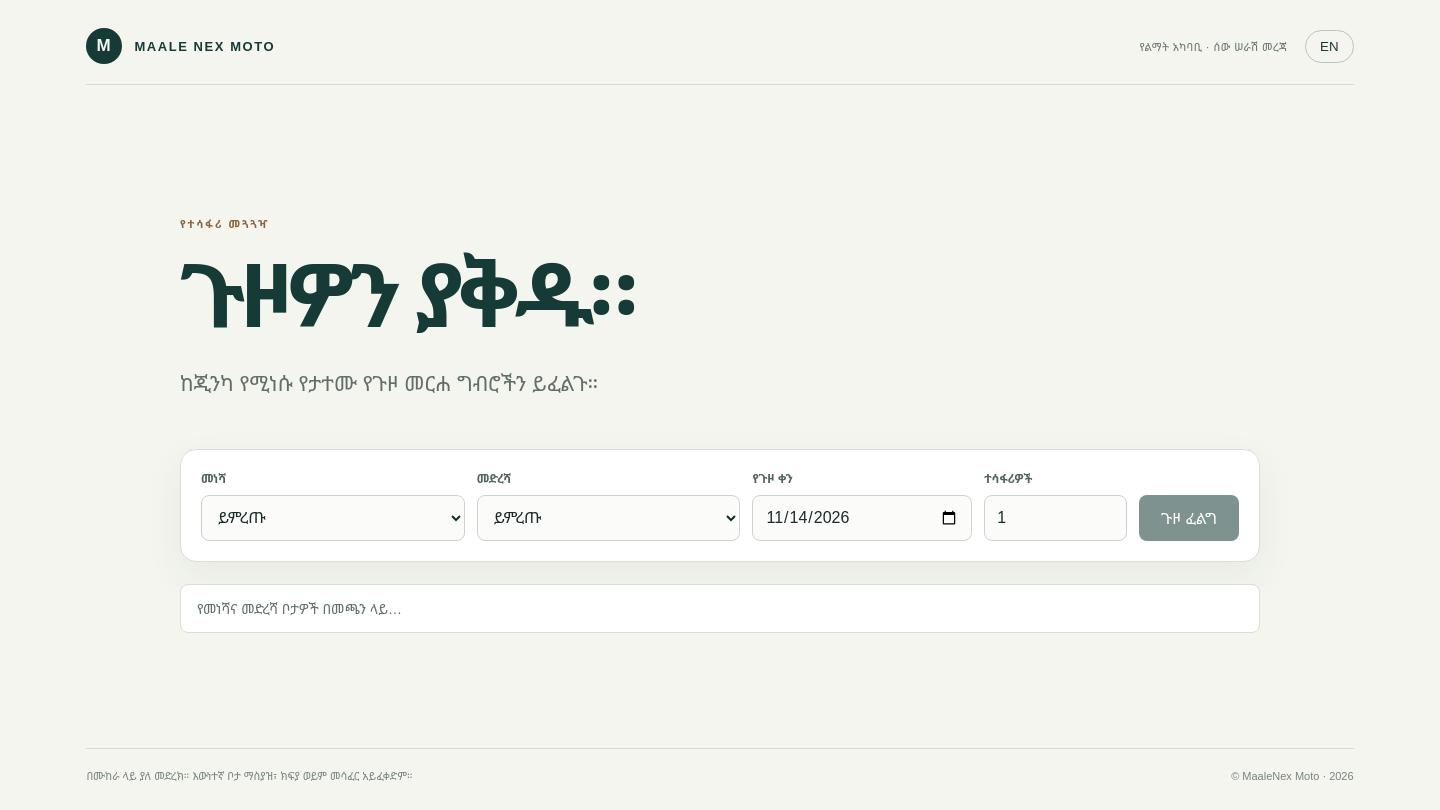
Test: passenger trip search shell › switches visible content and document language to English
This screenshot has width=1440, height=810.
Step 1. Click the button with aria-label "Switch language to English" → click(1329, 46), box [1305,30,1354,62]
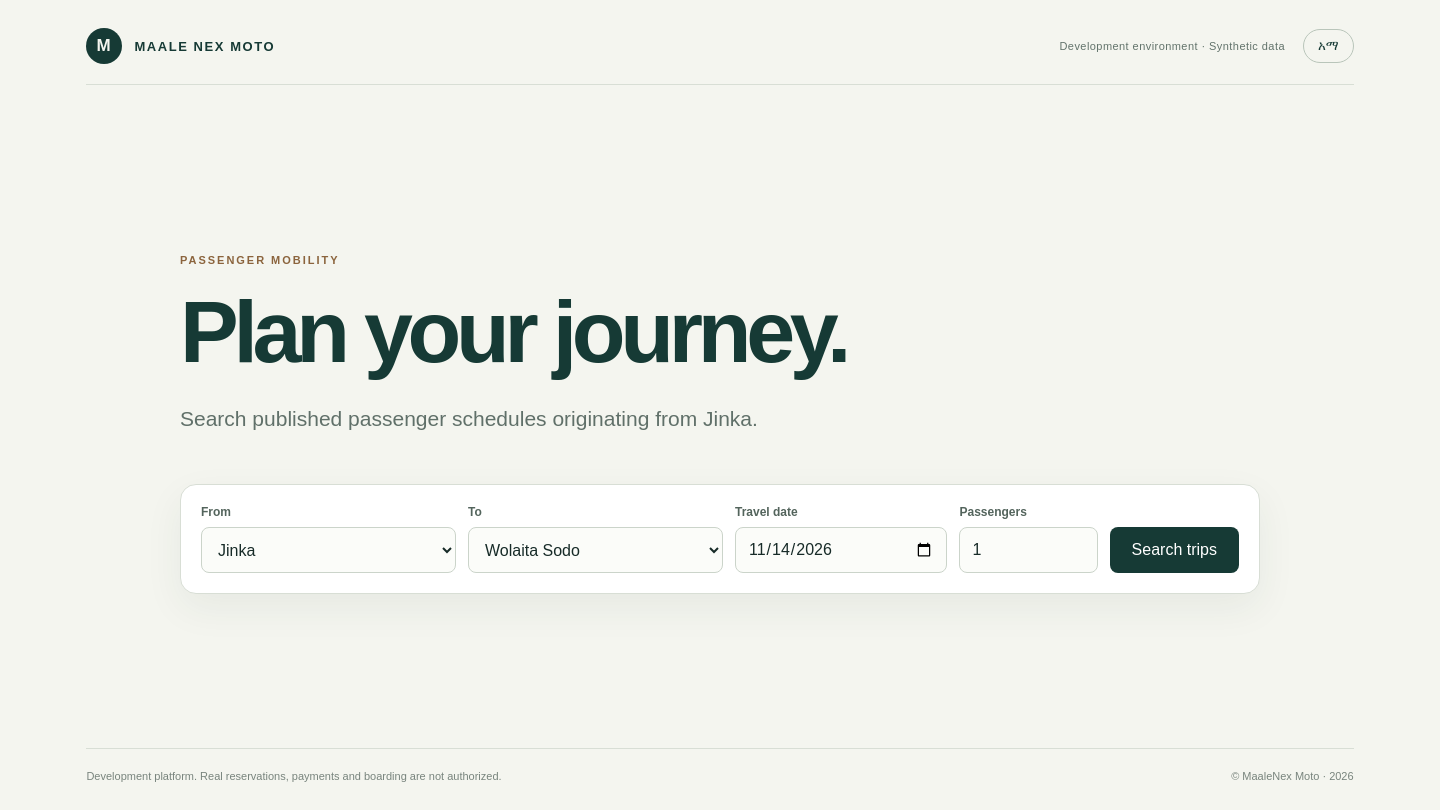
Result: the heading "Plan your journey." is shown at [180,282,846,381]
